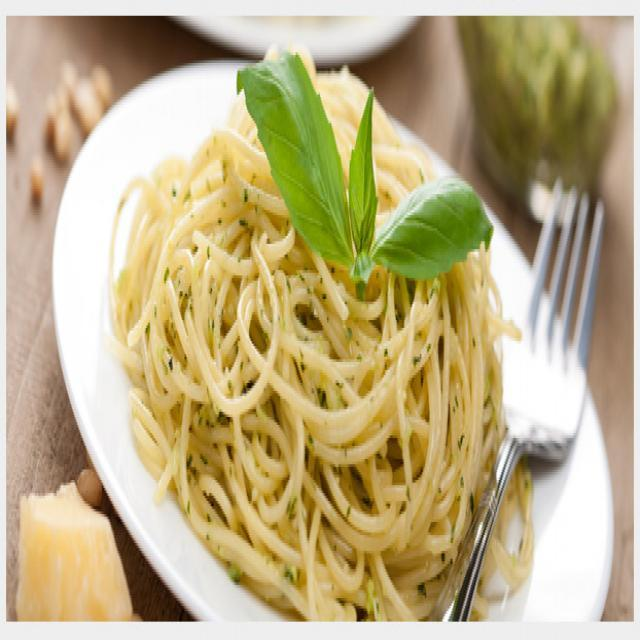Oil pasta: (114, 50, 573, 612)
